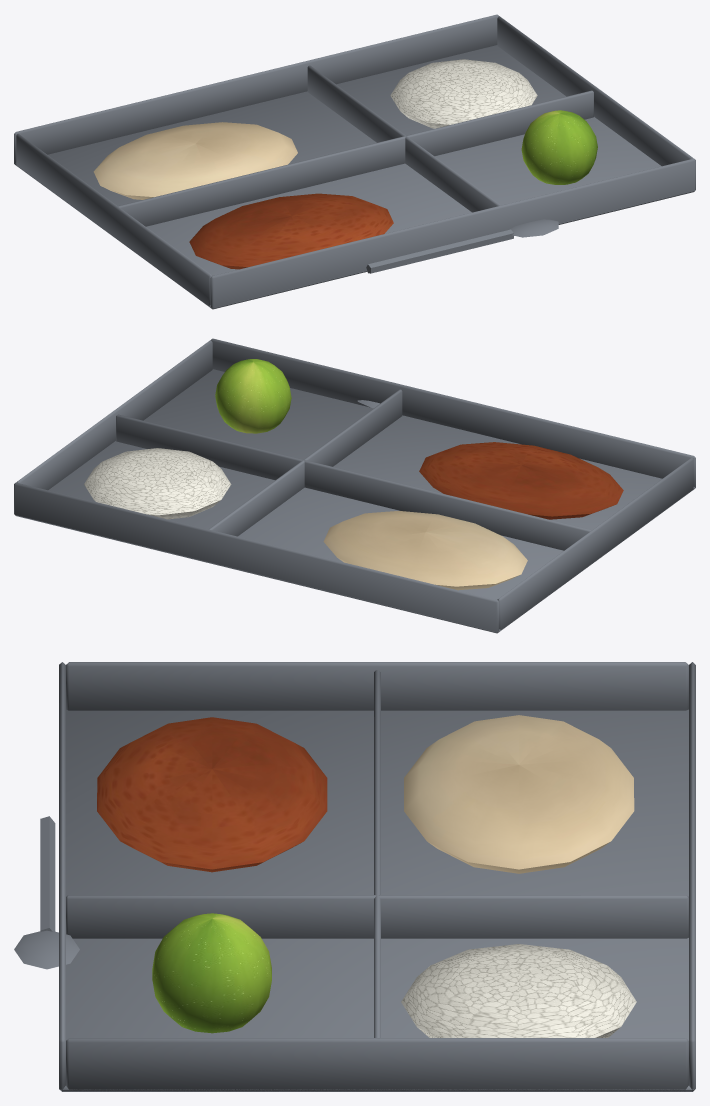
Rendered from tray_meal_tray_brig.glb.
3 renders of one model, top to bottom at view 1: azimuth 30°, elevation 25°; view 2: azimuth 150°, elevation 25°; view 3: azimuth 270°, elevation 25°, orthographic. The views are drawn at different scales.
Visible parts, largest first — view 1: tray_meal_tray_brig; view 2: tray_meal_tray_brig; view 3: tray_meal_tray_brig.
Boxes of the visible parts, x1=… form: tray_meal_tray_brig: x1=14, y1=14, x2=695, y2=309; tray_meal_tray_brig: x1=14, y1=338, x2=695, y2=633; tray_meal_tray_brig: x1=14, y1=662, x2=695, y2=1091.
Bounding box in the file's own units: 0.38 × 0.054 × 0.289.
Materials: 5 (4 with a texture image).
